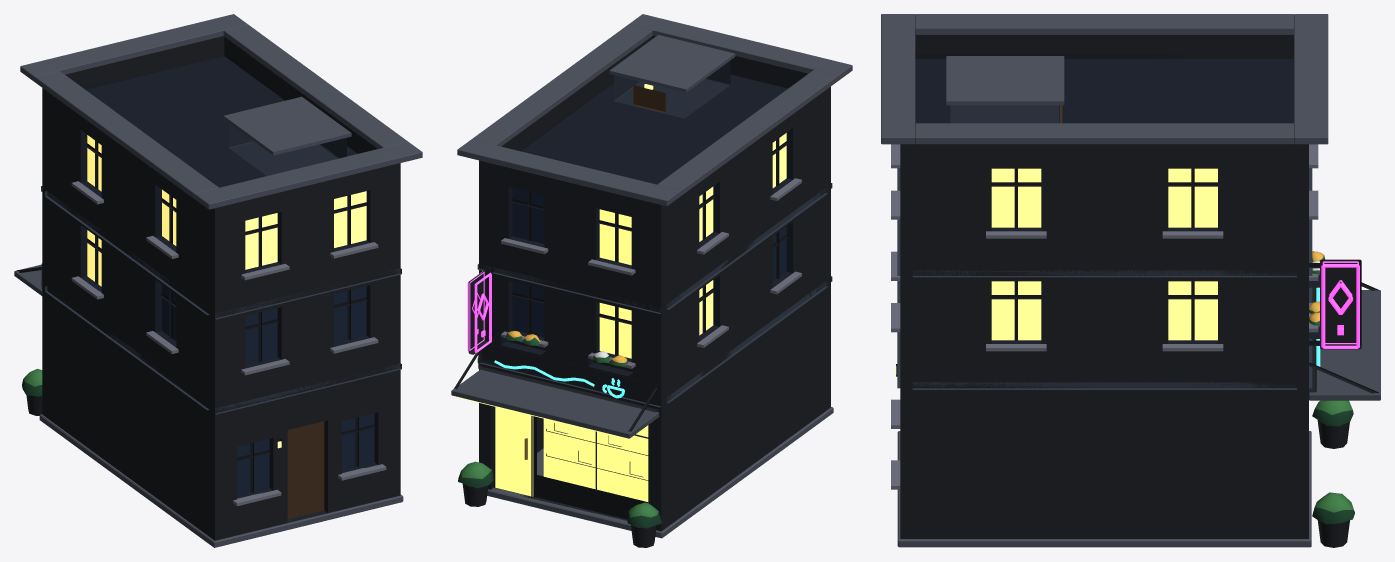
Rendered from shop_a.glb.
The picture shows the model from 3 angles, left to right: view 1: azimuth 30°, elevation 25°; view 2: azimuth 150°, elevation 25°; view 3: azimuth 270°, elevation 25°; orthographic projection. The views are drawn at different scales.
Parts seen in each view (by area): view 1: shop, plants; view 2: shop, plants, neon_2, neon; view 3: shop, plants, neon_2.
Part boxes in pixels (x1,y1,x2,y2): shop: (14,14,422,547); plants: (22,369,42,415); shop: (451,14,852,538); plants: (458,331,661,547); neon_2: (467,271,491,353); neon: (494,360,624,398); shop: (881,14,1380,547); plants: (1309,251,1354,547); neon_2: (1321,261,1359,348).
Bounding box in the file's own units: 5.3 × 8.56 × 9.05.
